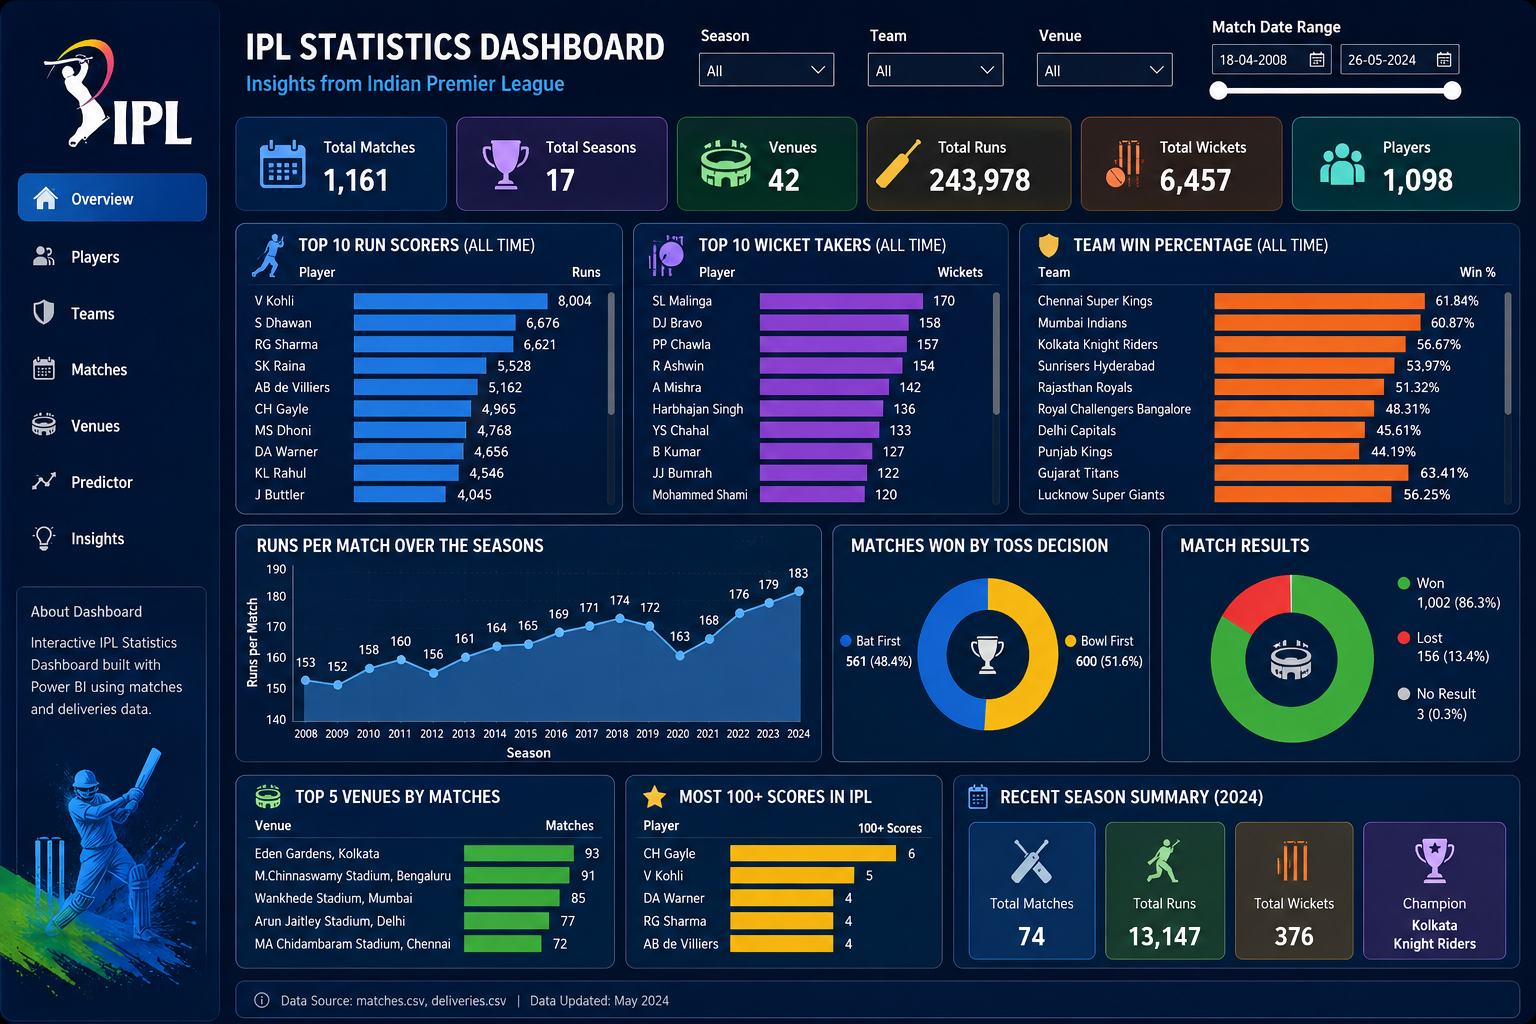

The page's visual inventory and layout, read from the dashboard file:
{"tool":"powerbi","page":{"name":"Page 1","canvas":[2000,1350],"ordinal":0},"visuals":[{"type":"shape","box":[0,0,290.3,1349.4],"z":1000},{"type":"cardVisual","fields":{"Data":["CountNonNull(matches_powerbi.match_id)"]},"box":[298.1,20.9,275,145],"z":2000},{"type":"cardVisual","fields":{"Data":["Count(matches_powerbi.season)"]},"box":[580.5,20.9,275,145],"z":3000},{"type":"cardVisual","fields":{"Data":["Count(matches_powerbi.venue)"]},"box":[863,20.9,275,145],"z":4000},{"type":"cardVisual","fields":{"Data":["Sum(deliveries_powerbi.total_runs)"]},"box":[1145.4,20.9,275,145],"z":5000},{"type":"cardVisual","fields":{"Data":["Count(deliveries_powerbi.batter)"]},"box":[1710.3,20.9,275,145],"z":6000},{"type":"cardVisual","fields":{"Data":["Sum(deliveries_powerbi.wicket)"]},"box":[1427.8,20.9,275,145],"z":7000},{"type":"barChart","title":"Top 10 Run Scorer","fields":{"Category":["player_match_powerbi.batter"],"Y":["Sum(player_match_powerbi.runs)"]},"box":[298.1,172.6,611.9,431.5],"z":8000},{"type":"barChart","fields":{"Category":["deliveries_powerbi.bowler"],"Y":["Sum(deliveries_powerbi.wicket)"]},"box":[915.3,172.6,575.3,431.5],"z":9000},{"type":"barChart","title":"Team Win Percentage","fields":{"Category":["Teams.Team"],"Y":["Teams.Win Percentage"]},"box":[1495.8,172.6,489,431.5],"z":10000},{"type":"areaChart","title":"Runs Per Match","fields":{"Category":["matches_powerbi.season"],"Y":["matches_powerbi.Runs Per Match"]},"box":[298.1,614.5,718,374.1],"z":11000},{"type":"donutChart","title":"Matches Won By Toss Decision","fields":{"Category":["matches_powerbi.toss_decision"],"Y":["matches_powerbi.Matches Won"]},"box":[1022.5,999,494.2,334.7],"z":12000},{"type":"donutChart","title":"Total Winner By Season","fields":{"Y":["CountNonNull(matches_powerbi.winner)"],"Category":["matches_powerbi.season"]},"box":[1524.6,999,460.3,334.7],"z":13000},{"type":"barChart","title":"Total 5 Venues ","fields":{"Category":["matches_powerbi.venue"],"Y":["Count(matches_powerbi.match_id)"]},"box":[298.1,999,719.1,334.7],"z":14000},{"type":"barChart","title":"Most Centuries by Batter","fields":{"Category":["player_match_powerbi.batter"],"Y":["player_match_powerbi.Centuries"]},"box":[1022.5,614.5,494.2,374],"z":15000},{"type":"barChart","title":"Most Sixes By Players","fields":{"Category":["deliveries_powerbi.batter"],"Y":["deliveries_powerbi.Total_Sixes"]},"box":[1524.6,614.5,460.3,374],"z":16000},{"type":"image","box":[26.2,20.9,240.6,211.8],"z":21000},{"type":"shape","box":[13.1,253.7,264.1,494.2],"z":22000},{"type":"slicer","fields":{"Values":["matches_powerbi.city"]},"box":[26.2,282.4,240.6,70.6],"z":22500},{"type":"slicer","fields":{"Values":["matches_powerbi.season"]},"box":[26.2,389.6,240.6,70.6],"z":23000},{"type":"slicer","fields":{"Values":["Teams.Team"]},"box":[26.2,507.3,240.6,75.8],"z":23500},{"type":"slicer","fields":{"Values":["matches_powerbi.venue"]},"box":[26.2,635.5,240.6,75.8],"z":24000},{"type":"image","box":[13.1,1033,264.1,300.7],"z":24001},{"type":"textbox","box":[13.1,815.9,264.1,217.1],"z":24002}]}

Visuals, with their boxes in screenshot pixels (x1, y1, x2, y2), scaled from the page's 2000x1350 canvas onto the 1536x1024 screenshot:
shape: 0 0 223 1023
cardVisual - CountNonNull(matches_powerbi.match_id): 229 16 440 126
cardVisual - Count(matches_powerbi.season): 446 16 657 126
cardVisual - Count(matches_powerbi.venue): 663 16 874 126
cardVisual - Sum(deliveries_powerbi.total_runs): 880 16 1091 126
cardVisual - Count(deliveries_powerbi.batter): 1314 16 1525 126
cardVisual - Sum(deliveries_powerbi.wicket): 1097 16 1308 126
"Top 10 Run Scorer" barChart: 229 131 699 458
barChart - deliveries_powerbi.bowler x Sum(deliveries_powerbi.wicket): 703 131 1145 458
"Team Win Percentage" barChart: 1149 131 1524 458
"Runs Per Match" areaChart: 229 466 780 750
"Matches Won By Toss Decision" donutChart: 785 758 1165 1012
"Total Winner By Season" donutChart: 1171 758 1524 1012
"Total 5 Venues " barChart: 229 758 781 1012
"Most Centuries by Batter" barChart: 785 466 1165 750
"Most Sixes By Players" barChart: 1171 466 1524 750
image: 20 16 205 177
shape: 10 192 213 567
slicer - matches_powerbi.city: 20 214 205 268
slicer - matches_powerbi.season: 20 296 205 349
slicer - Teams.Team: 20 385 205 442
slicer - matches_powerbi.venue: 20 482 205 540
image: 10 784 213 1012
textbox: 10 619 213 784
